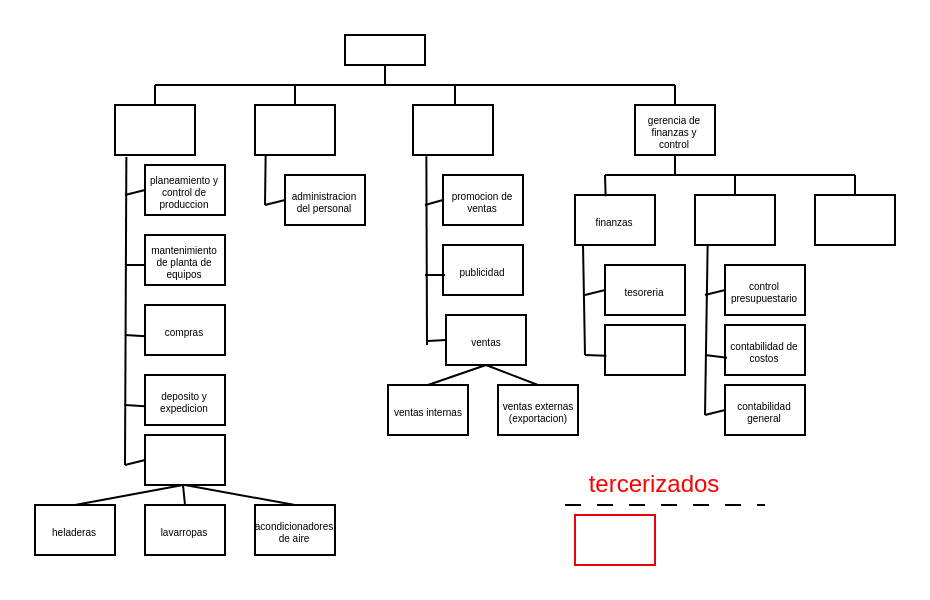
Image size: 930x600. Some labels were removed from this diagram. Here are the shapes that lost their labels. From the top down, the box of each, then its label:
(343, 33, 425, 65): Gerencia General
(113, 103, 195, 155): gerencia de produccion
(253, 103, 335, 155): gerencia administrativa
(411, 103, 493, 155): gerencia comercial
(693, 193, 775, 245): control
(813, 193, 895, 245): asesoria legal
(603, 323, 685, 375): creditos y cobranzas
(143, 433, 225, 485): fabricacion
(573, 513, 655, 565): servicio medico
